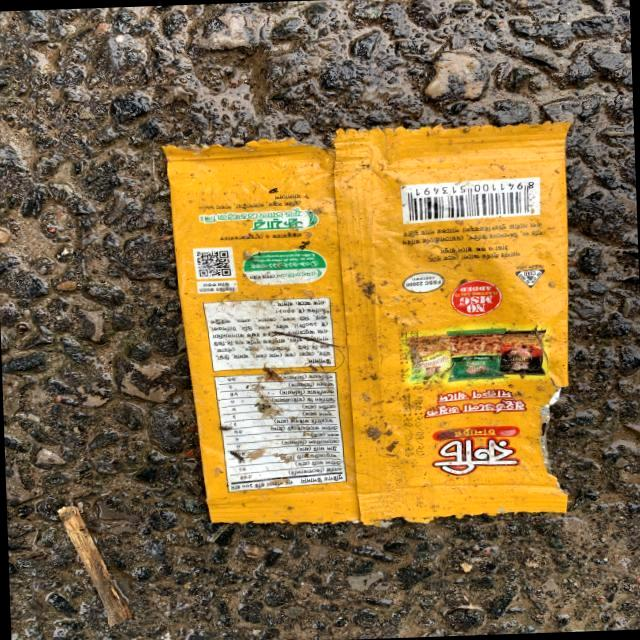packet: (167, 122, 585, 532)
